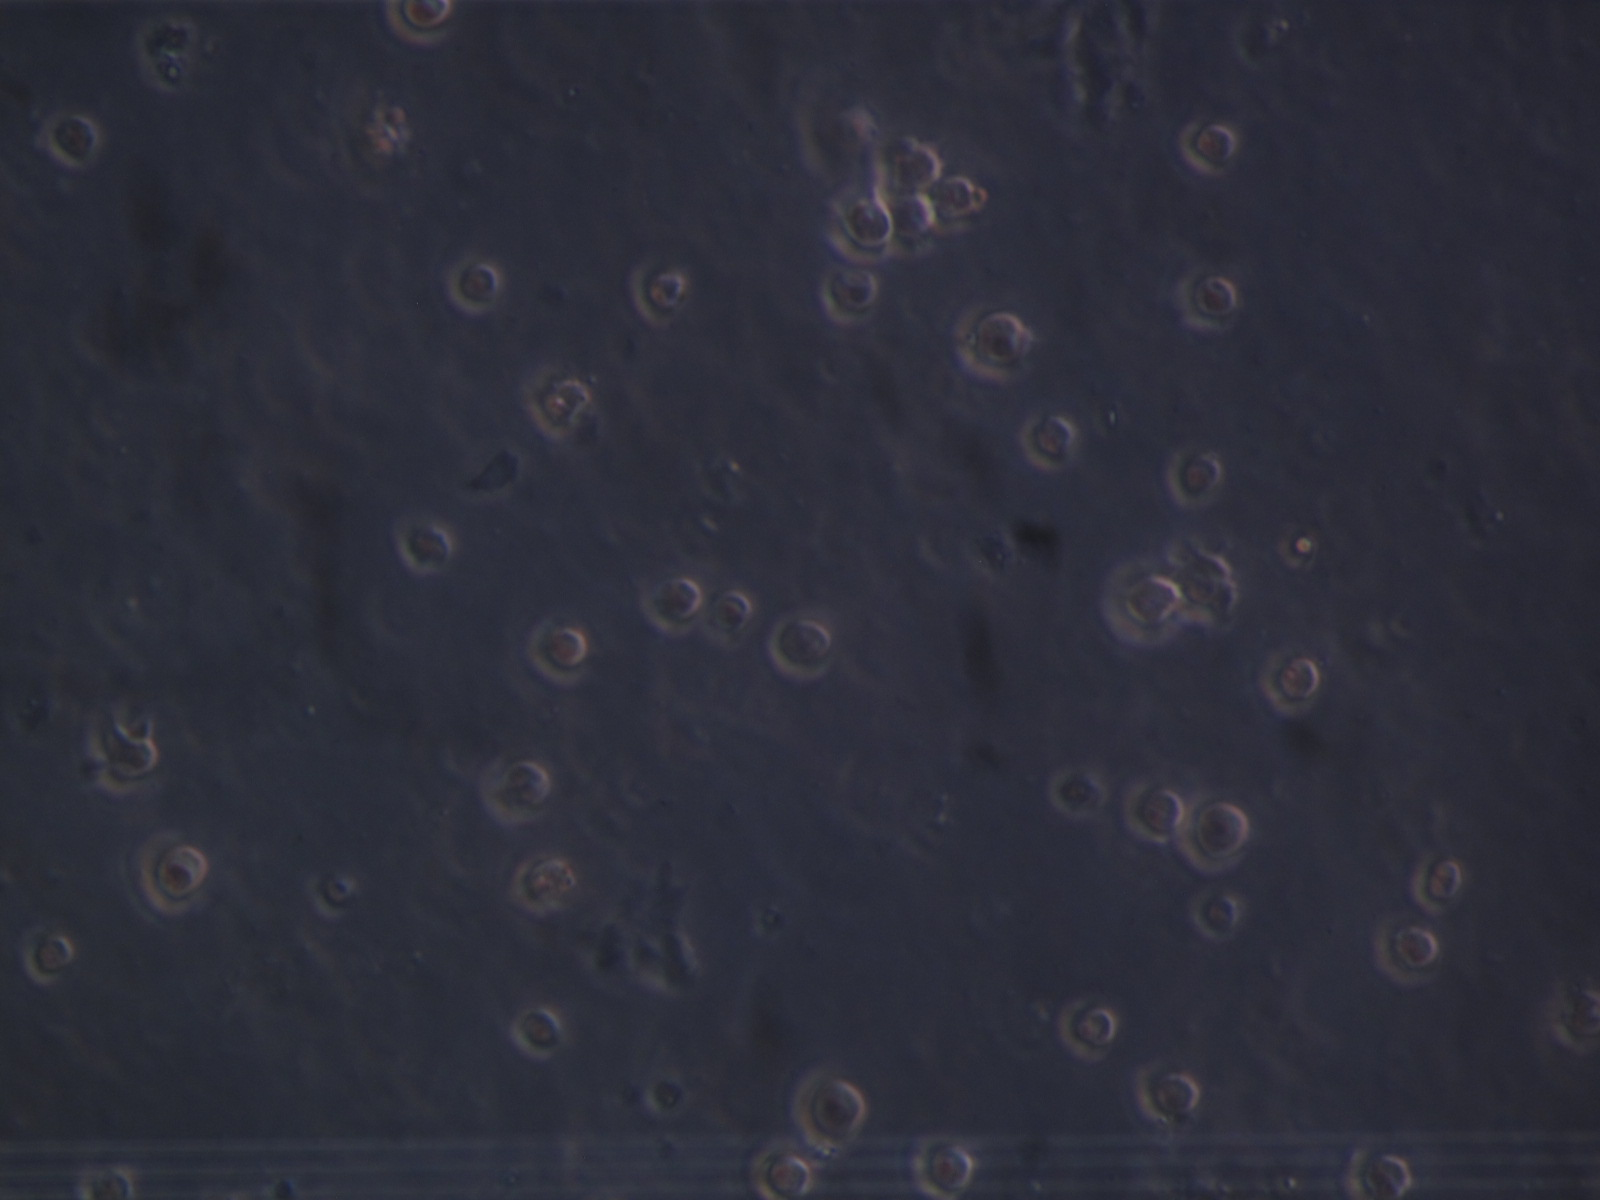hemo: (1101, 552, 1182, 647), (950, 296, 1032, 386), (129, 829, 207, 918), (791, 1065, 866, 1151), (1178, 792, 1252, 874), (1368, 908, 1441, 989), (479, 751, 553, 826), (825, 188, 894, 265), (1170, 263, 1241, 334), (1257, 642, 1322, 718), (1175, 555, 1238, 632), (523, 366, 590, 434), (1120, 774, 1184, 845), (769, 615, 835, 682), (911, 1134, 976, 1200), (818, 258, 879, 328), (1133, 1060, 1202, 1122), (1019, 408, 1083, 474), (527, 616, 588, 684), (389, 513, 454, 576), (1339, 1146, 1414, 1200), (640, 575, 704, 637), (94, 735, 160, 795), (630, 257, 687, 326), (1060, 997, 1116, 1066), (1409, 850, 1466, 916), (884, 189, 940, 258), (1165, 444, 1223, 509), (511, 855, 574, 913), (1177, 118, 1235, 178), (1186, 884, 1243, 942), (447, 255, 504, 314), (887, 135, 942, 195), (20, 926, 76, 984), (753, 1146, 813, 1200), (1044, 769, 1107, 819), (48, 111, 100, 170), (384, 1, 454, 43), (514, 1005, 564, 1061), (932, 173, 976, 236), (706, 591, 756, 644), (305, 868, 359, 918), (77, 1166, 135, 1200)
